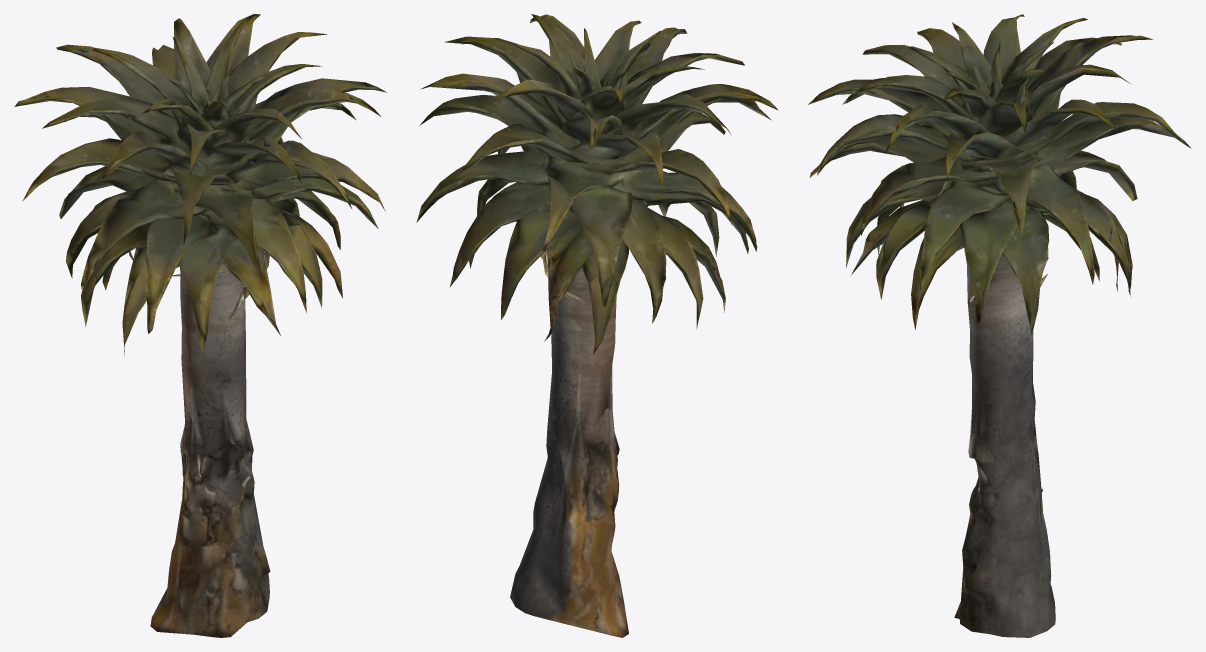
Rendered from quiver.glb.
3 renders of one model, left to right at view 1: azimuth 30°, elevation 25°; view 2: azimuth 150°, elevation 25°; view 3: azimuth 270°, elevation 25°, orthographic.
Parts seen in each view (by area): view 1: quiver_tree_02; view 2: quiver_tree_02; view 3: quiver_tree_02.
Boxes of the visible parts, x1=… form: quiver_tree_02: x1=14, y1=14, x2=386, y2=637; quiver_tree_02: x1=416, y1=14, x2=778, y2=637; quiver_tree_02: x1=808, y1=14, x2=1191, y2=637.
Size of the model in its own units: 0.8629 by 1.46 by 0.8806.
Materials: 1 (1 with a texture image).
